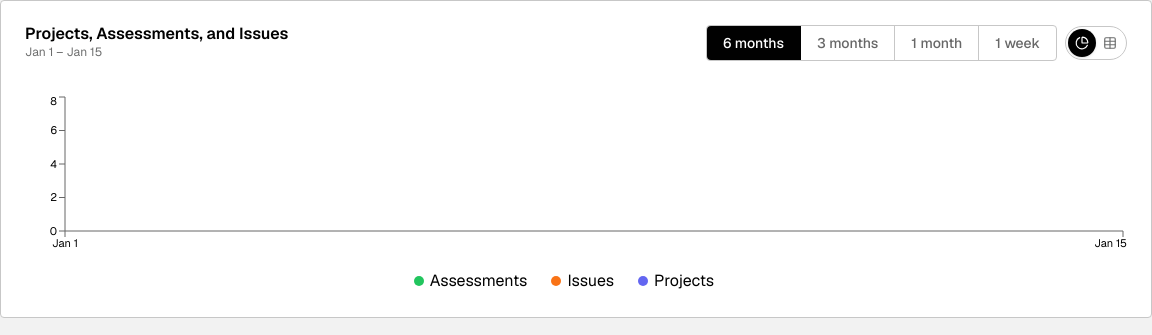
Scenario: ActivityChart › shows "days" label in table view for 1-week range
The image size is (1152, 335).
Press the mouse on the tab "1 week": (1018, 43) [979,26,1056,60]
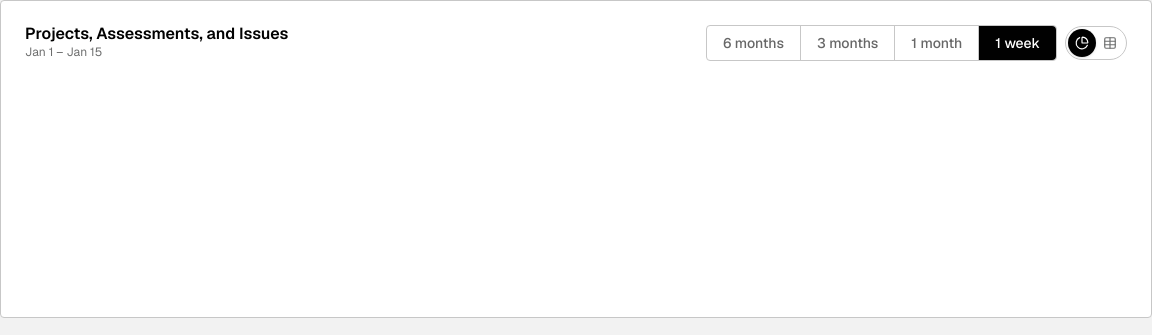
Click the button named "Table view": (1110, 43) [1096,29,1124,57]
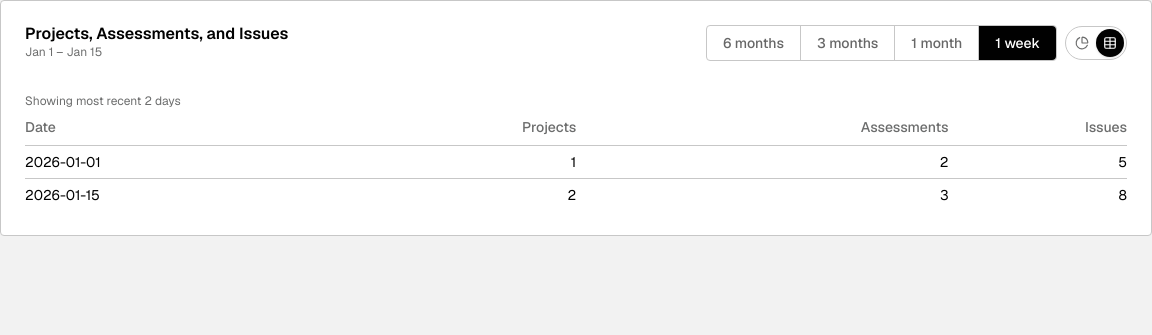
Now the text "Showing most recent 2 days" is shown, box [25,93,181,109]
